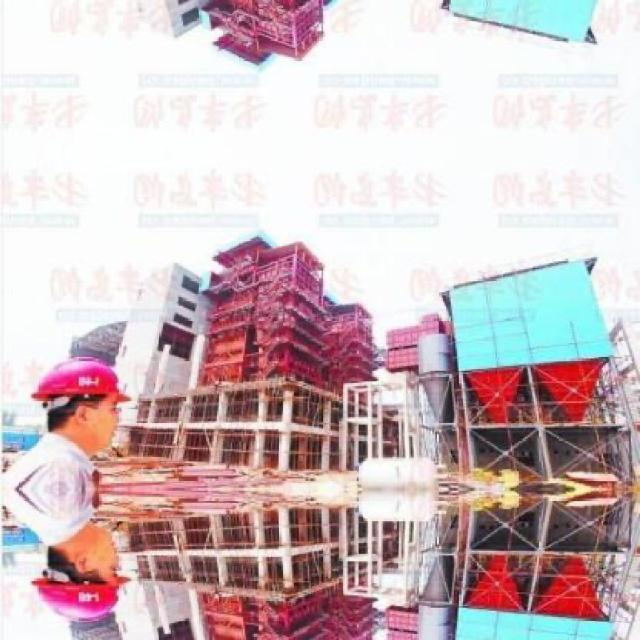con casco: (16, 358, 160, 451)
